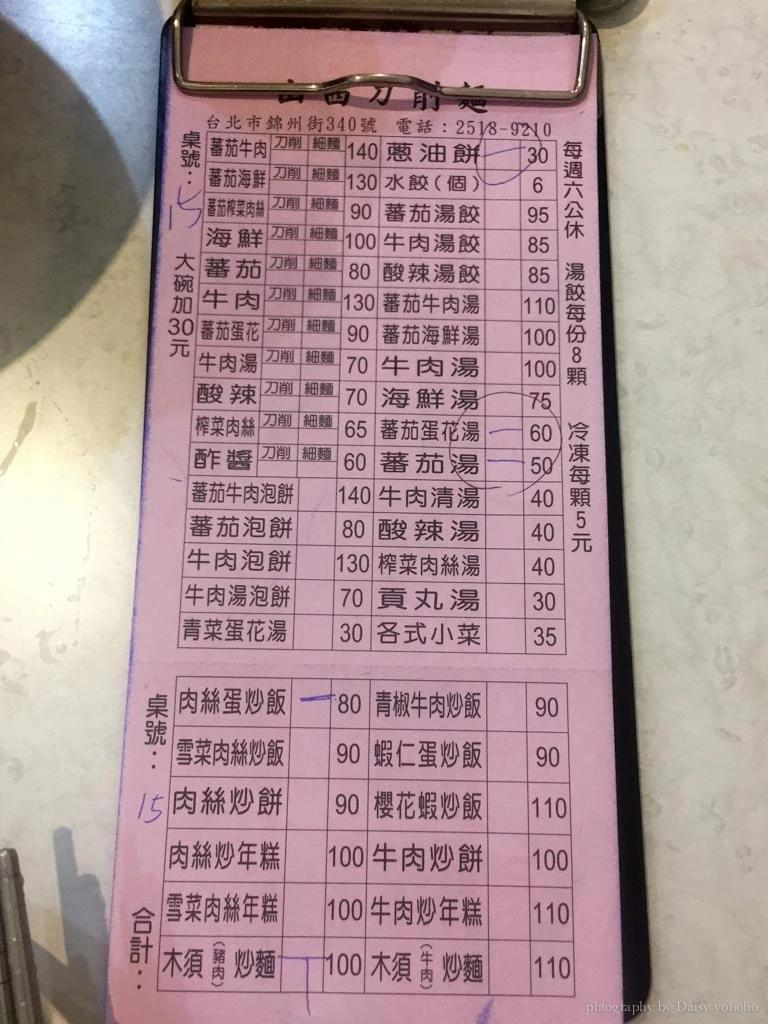paper: (110, 0, 648, 1023)
